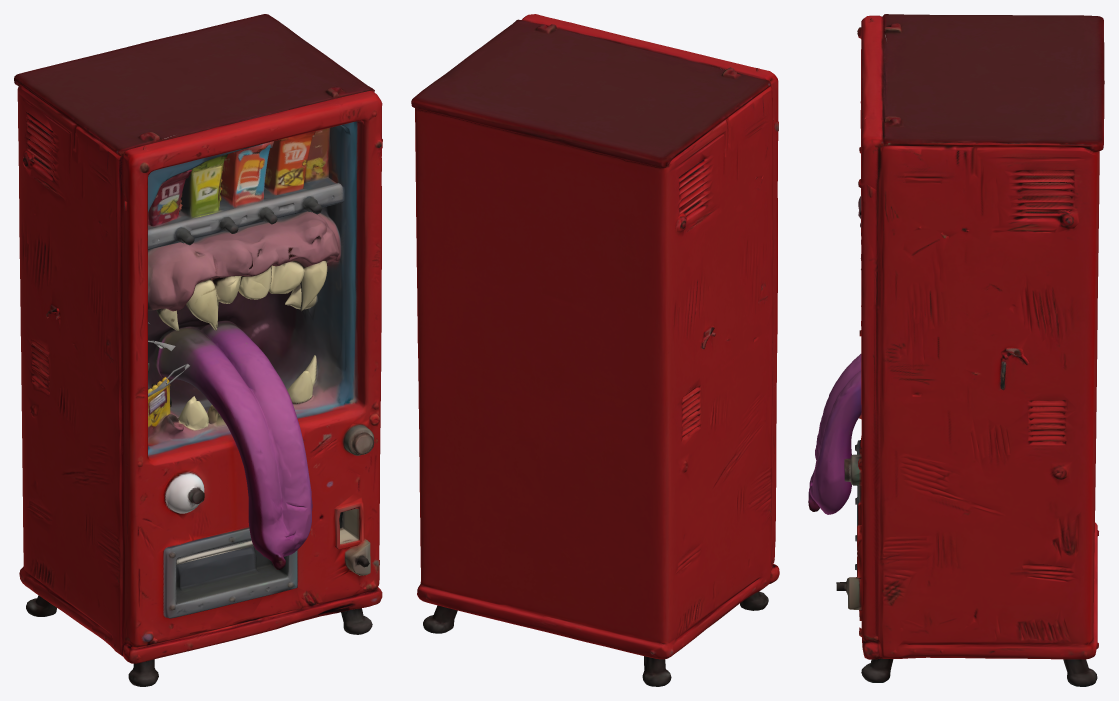
Rendered from vending_mimic.glb.
3 views of the same model, side by side, from view 1: azimuth 30°, elevation 25°; view 2: azimuth 150°, elevation 25°; view 3: azimuth 270°, elevation 25° (orthographic). The views are drawn at different scales.
Visible parts, largest first — view 1: tripo_node_4eac5303-43aa-4324-8a3c-6d6ead2a2973; view 2: tripo_node_4eac5303-43aa-4324-8a3c-6d6ead2a2973; view 3: tripo_node_4eac5303-43aa-4324-8a3c-6d6ead2a2973.
Part boxes in pixels (bbox=[...]): tripo_node_4eac5303-43aa-4324-8a3c-6d6ead2a2973: bbox=[14, 14, 382, 686]; tripo_node_4eac5303-43aa-4324-8a3c-6d6ead2a2973: bbox=[411, 14, 779, 686]; tripo_node_4eac5303-43aa-4324-8a3c-6d6ead2a2973: bbox=[808, 14, 1104, 686].
Bounding box in the file's own units: 0.5 × 0.9816 × 0.4739.
Materials: 1 (1 with a texture image).
